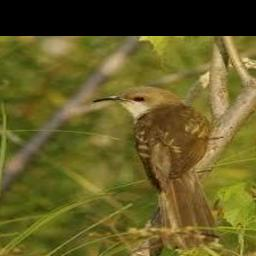Cuckoo: (93, 86, 223, 251)
